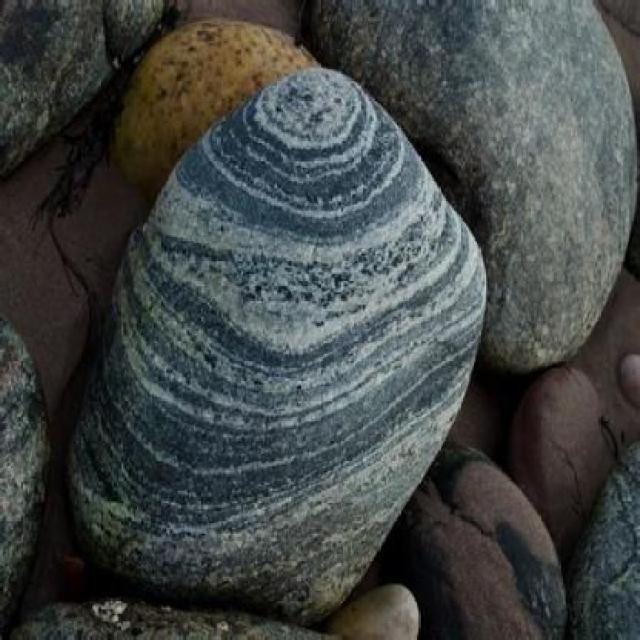rock: (62, 60, 492, 618), (297, 2, 638, 375), (101, 12, 322, 216), (382, 442, 573, 638), (320, 582, 423, 638)
